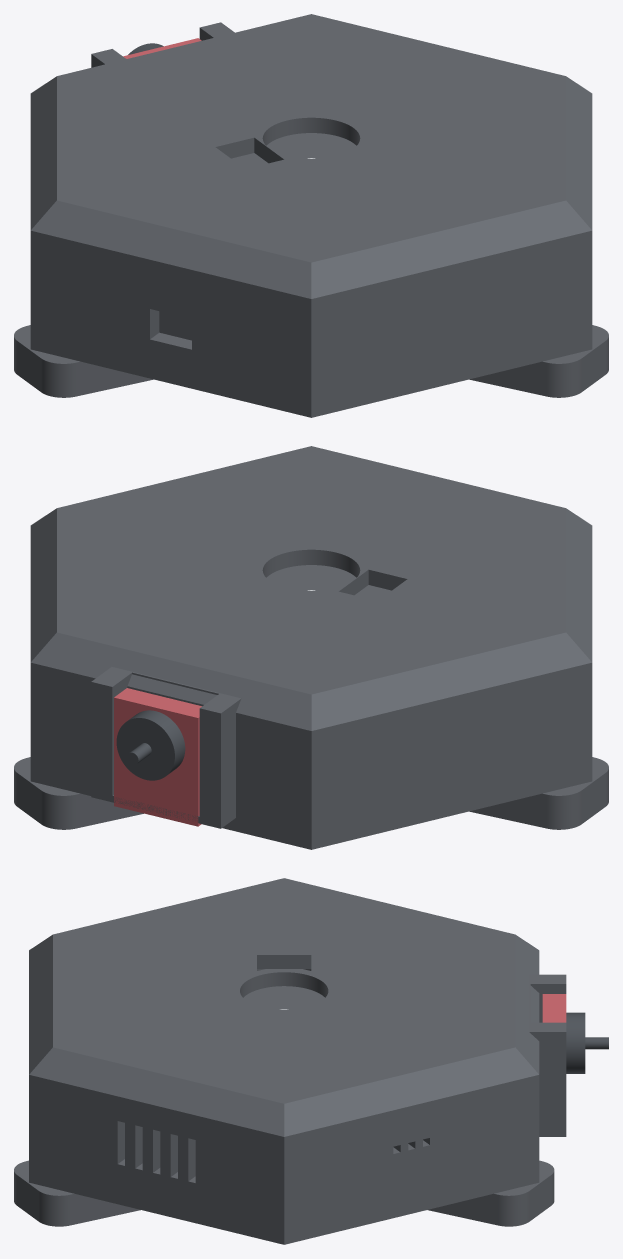
File: fase2_base.glb
3 renders of one model, top to bottom at view 1: azimuth 30°, elevation 25°; view 2: azimuth 150°, elevation 25°; view 3: azimuth 270°, elevation 25°, orthographic. The views are drawn at different scales.
Visible parts, largest first — view 1: =>[0:1:1:4]; view 2: =>[0:1:1:4], =>[0:1:1:18], =>[0:1:1:20]; view 3: =>[0:1:1:4], =>[0:1:1:20], =>[0:1:1:18].
Part boxes in pixels (x1,y1,x2,y2): =>[0:1:1:4]: [14, 14, 608, 417]; =>[0:1:1:4]: [14, 446, 608, 849]; =>[0:1:1:18]: [114, 688, 201, 826]; =>[0:1:1:20]: [116, 710, 185, 780]; =>[0:1:1:4]: [14, 878, 566, 1244]; =>[0:1:1:20]: [566, 1012, 585, 1073]; =>[0:1:1:18]: [542, 994, 566, 1022].
Size of the model in its own units: 0.1736 by 0.052 by 0.1749.
